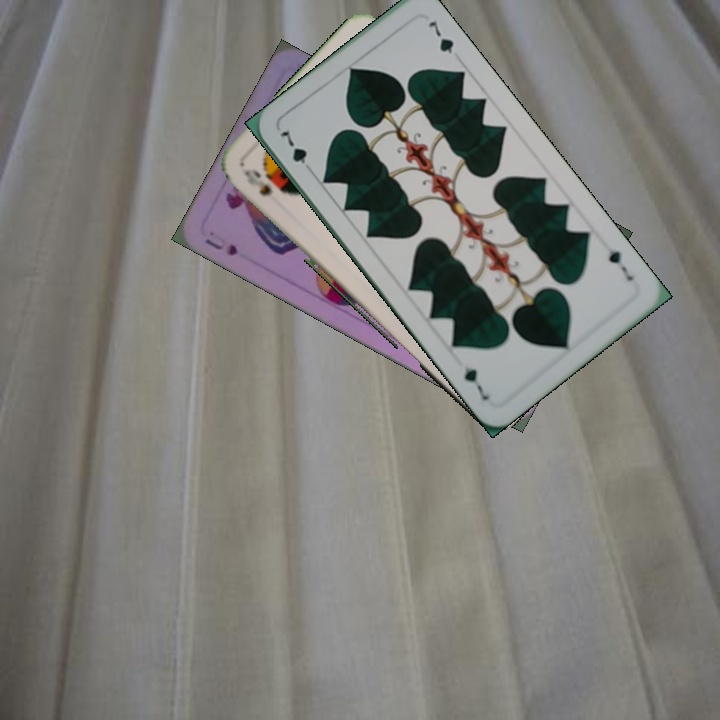G7: (276, 127, 317, 177), (604, 245, 636, 284)
SO: (240, 164, 275, 199)
SU: (201, 234, 241, 259)
